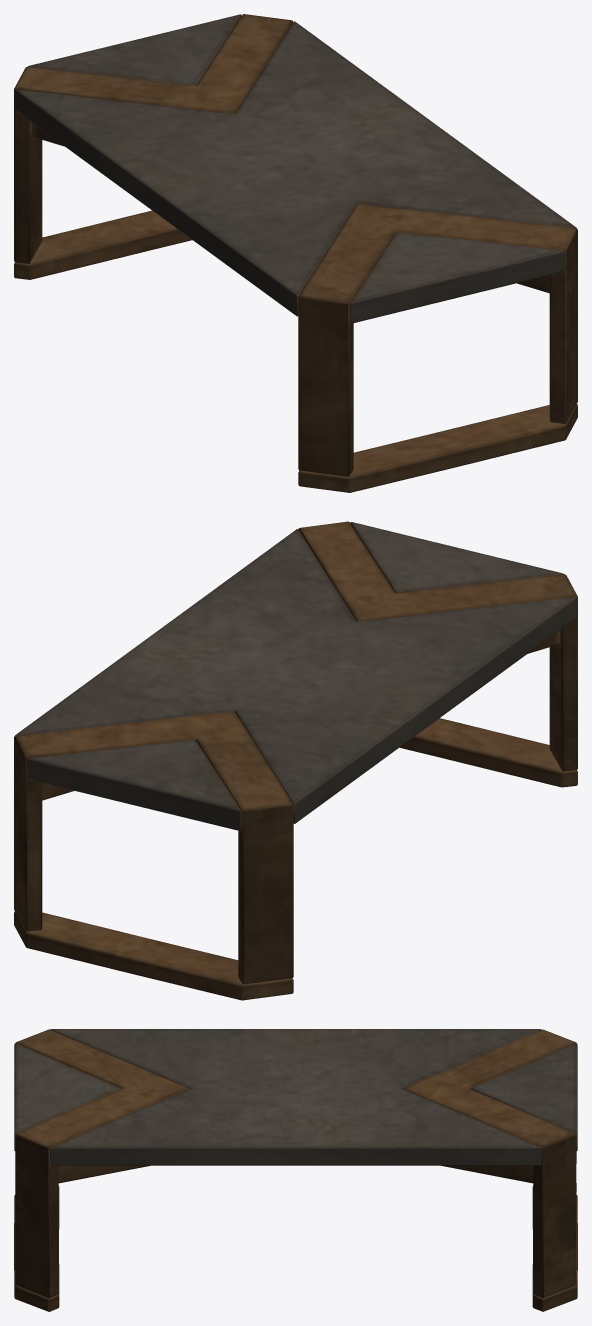
The model's file is modern_coffee_table_01.glb.
The picture shows the model from 3 angles, top to bottom: view 1: azimuth 30°, elevation 25°; view 2: azimuth 150°, elevation 25°; view 3: azimuth 270°, elevation 25°; orthographic projection. The views are drawn at different scales.
Parts seen in each view (by area): view 1: modern_coffee_table_01; view 2: modern_coffee_table_01; view 3: modern_coffee_table_01.
Part boxes in pixels (x1,y1,x2,y2): modern_coffee_table_01: [14, 14, 577, 492]; modern_coffee_table_01: [14, 521, 577, 1000]; modern_coffee_table_01: [14, 1029, 577, 1311].
Size of the model in its own units: 0.5999 by 0.39 by 1.2.
Materials: 1 (1 with a texture image).
